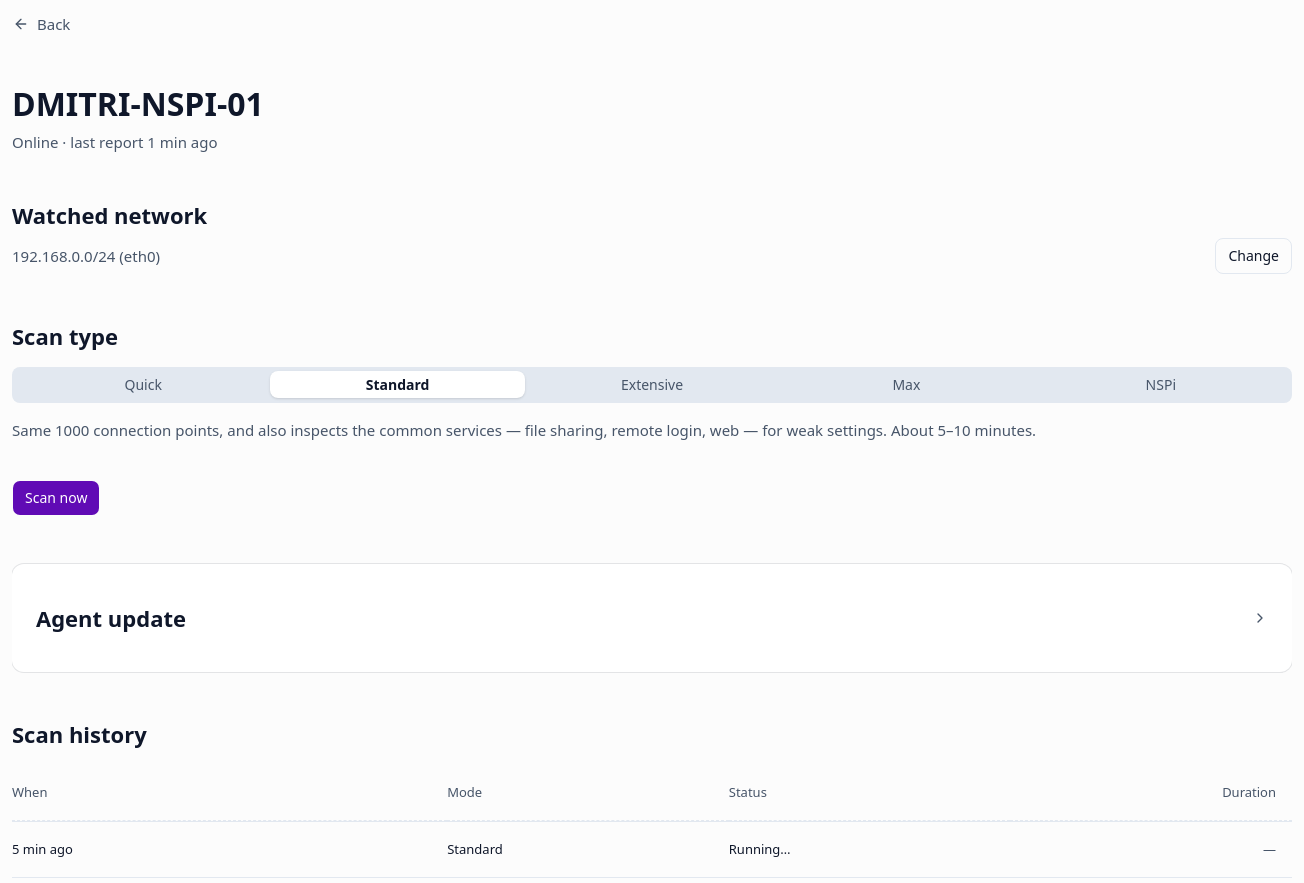
Test: DeviceDetail command lifecycle › trigger and polling › Scan now uses the selected type
Click the tab with test id "scan-type-tab-max" at (906, 385), box [779,371,1034,398]
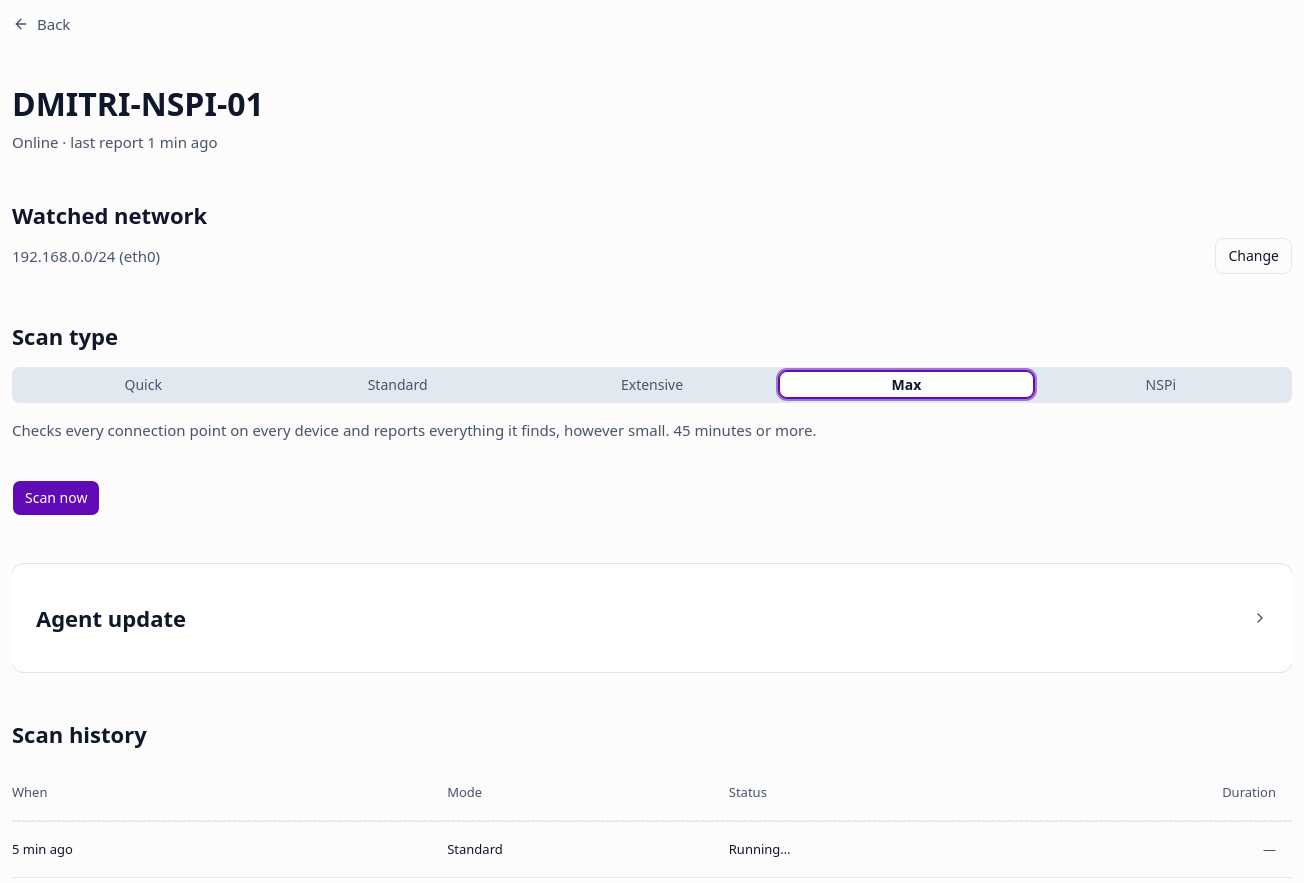
Click the button with test id "agents-scan-now" at (56, 498), box [12,480,100,516]
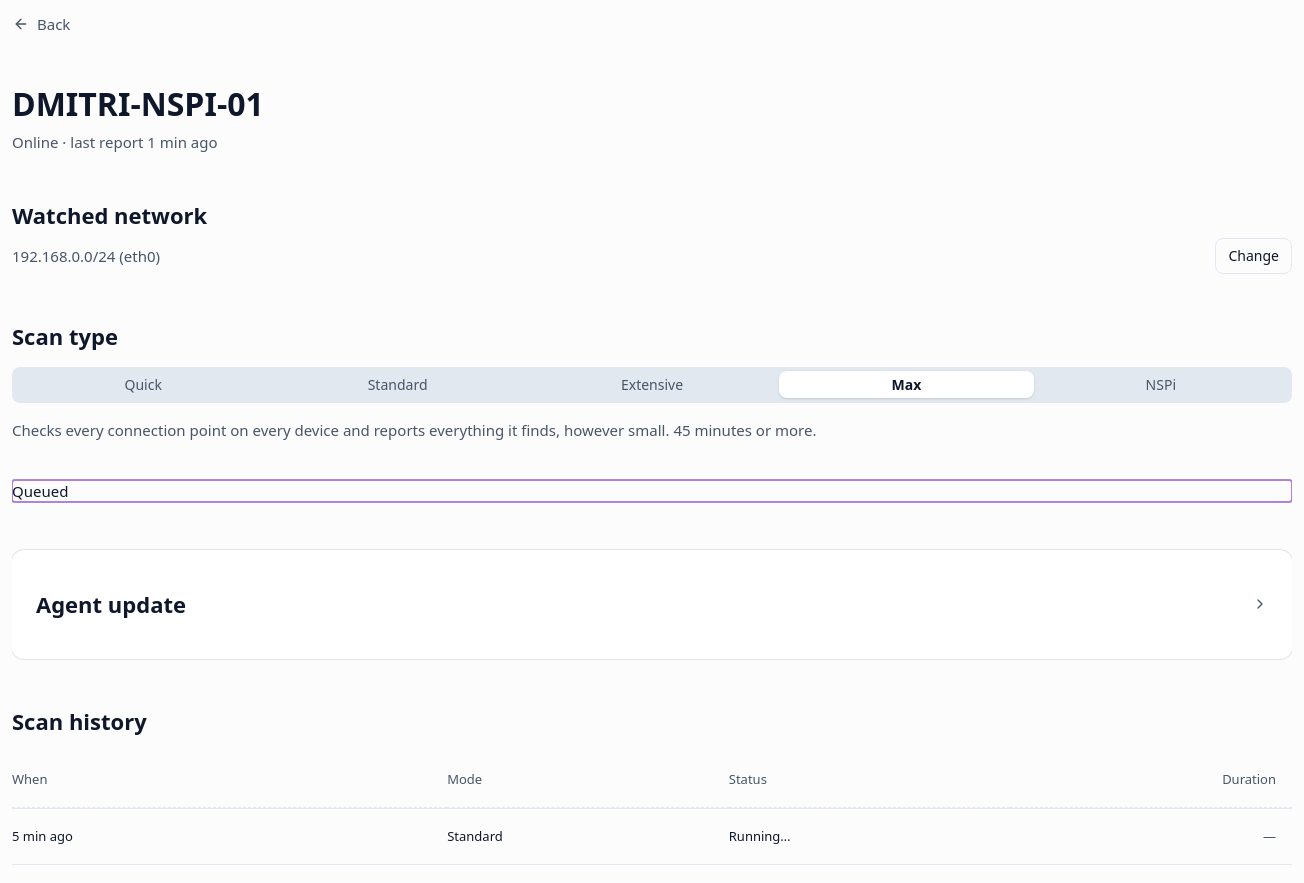
Result: the text "Queued" is shown at [12,480,68,502]
